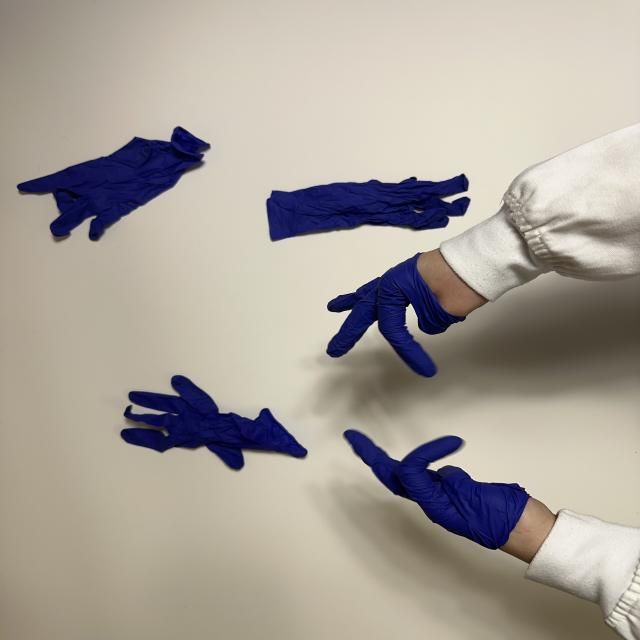glove_not_fitted: (343, 428, 566, 564), (325, 246, 492, 378)
